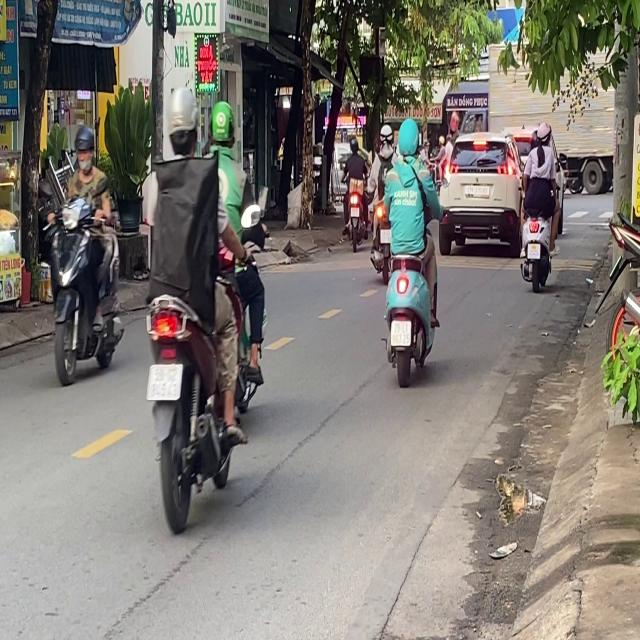helmet: (164, 84, 200, 156), (208, 98, 234, 148), (72, 124, 96, 171), (397, 116, 419, 157), (535, 120, 551, 145)
licenseplate: (137, 81, 262, 528), (202, 92, 269, 425), (48, 123, 124, 383), (375, 112, 443, 386), (518, 118, 563, 291)
nohelmet: (147, 363, 182, 398), (390, 320, 411, 346), (527, 242, 540, 259)
